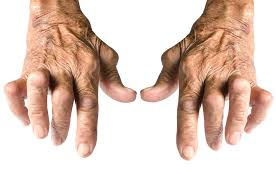hand: (135, 13, 272, 175), (5, 24, 136, 160)
